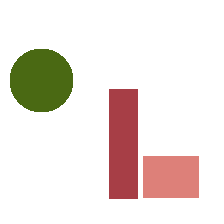circle: (10, 49, 72, 111)
rectangle: (109, 89, 137, 198), (143, 156, 198, 197)
